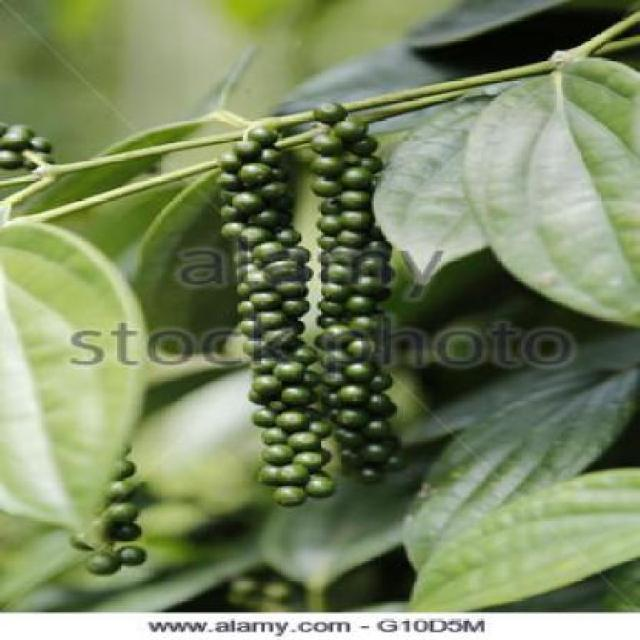UNRIPE: (194, 123, 312, 506), (313, 94, 402, 494)
